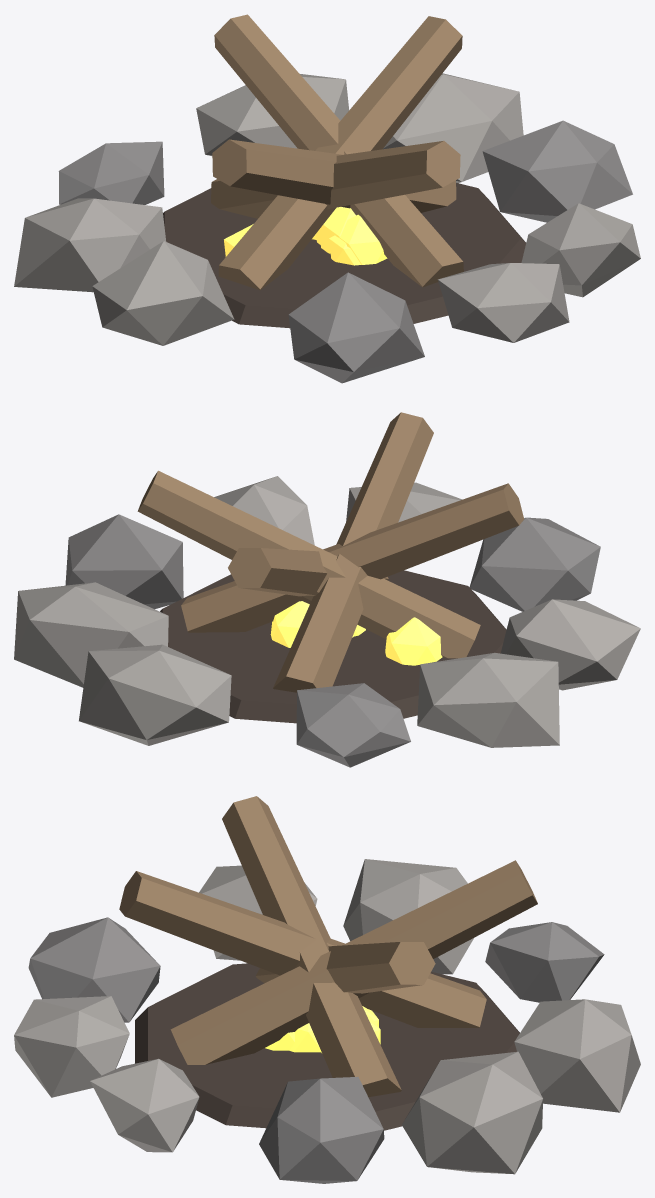
File: campfire.glb
3 renders of one model, top to bottom at view 1: azimuth 30°, elevation 25°; view 2: azimuth 150°, elevation 25°; view 3: azimuth 270°, elevation 25°, orthographic. The views are drawn at different scales.
Visible parts, largest first — view 1: campfire; view 2: campfire; view 3: campfire.
Part boxes in pixels (<box>): campfire: <box>14,14,640,383</box>; campfire: <box>14,412,640,767</box>; campfire: <box>14,796,640,1183</box>.
Size of the model in its own units: 2.43 by 0.8452 by 2.28.
